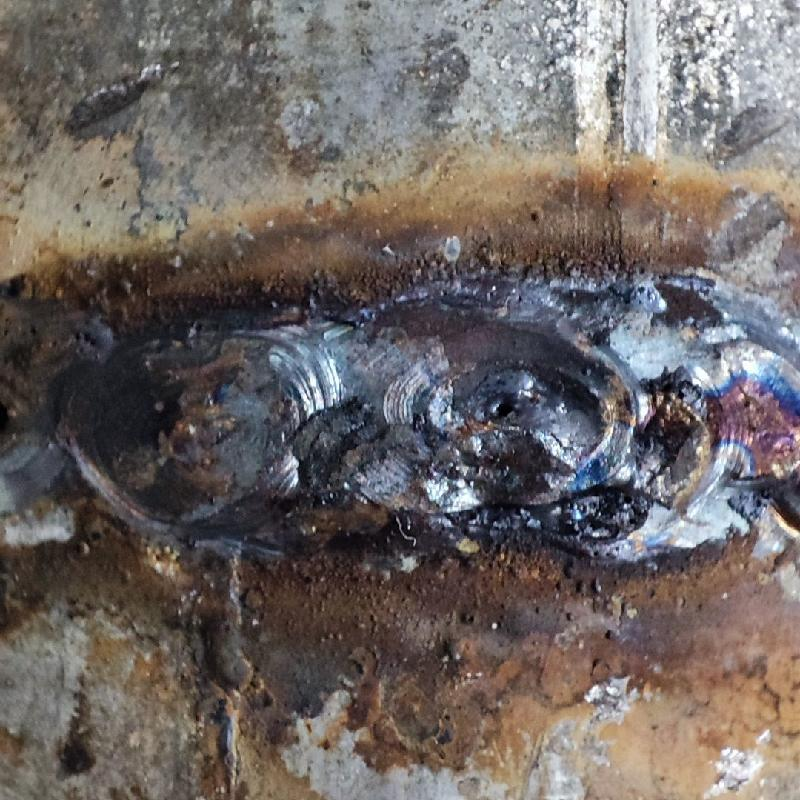Surface_pores: (481, 381, 537, 437)
crater: (1, 290, 797, 544)
